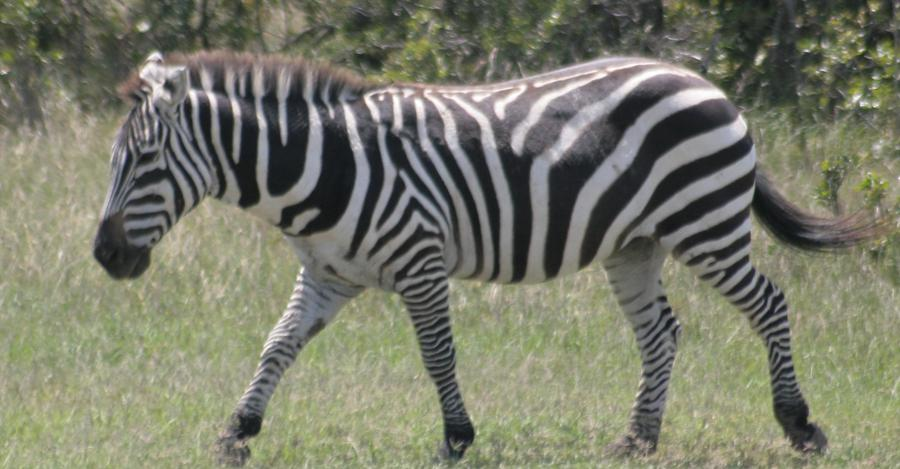zebra_plains: (286, 61, 787, 290)
